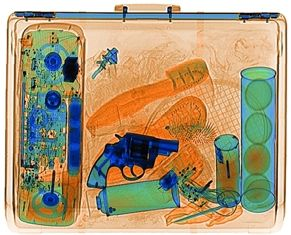gun: (86, 130, 182, 192)
